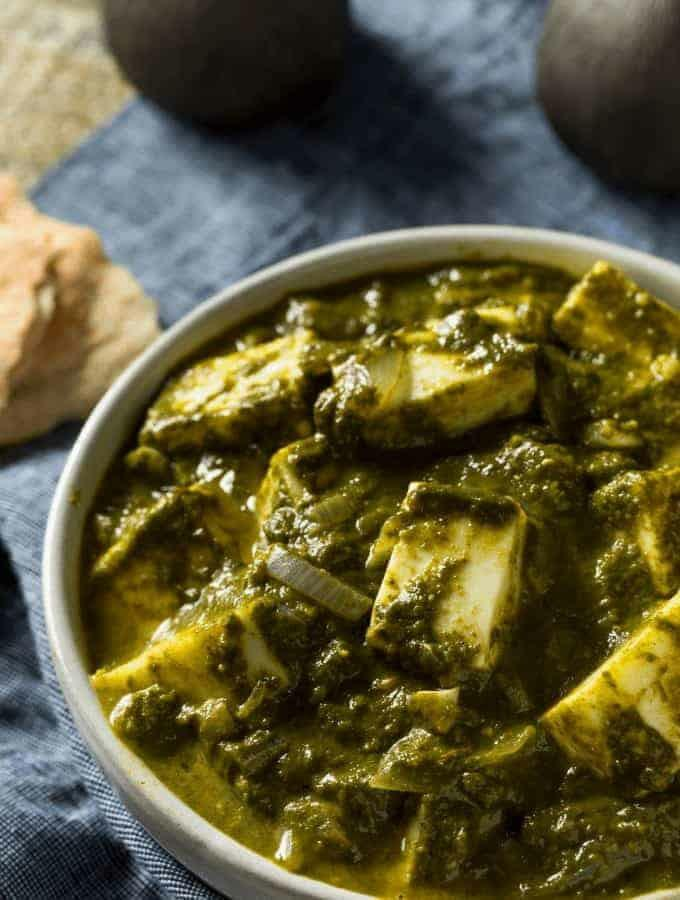PalakPaneer: (89, 258, 680, 900)
